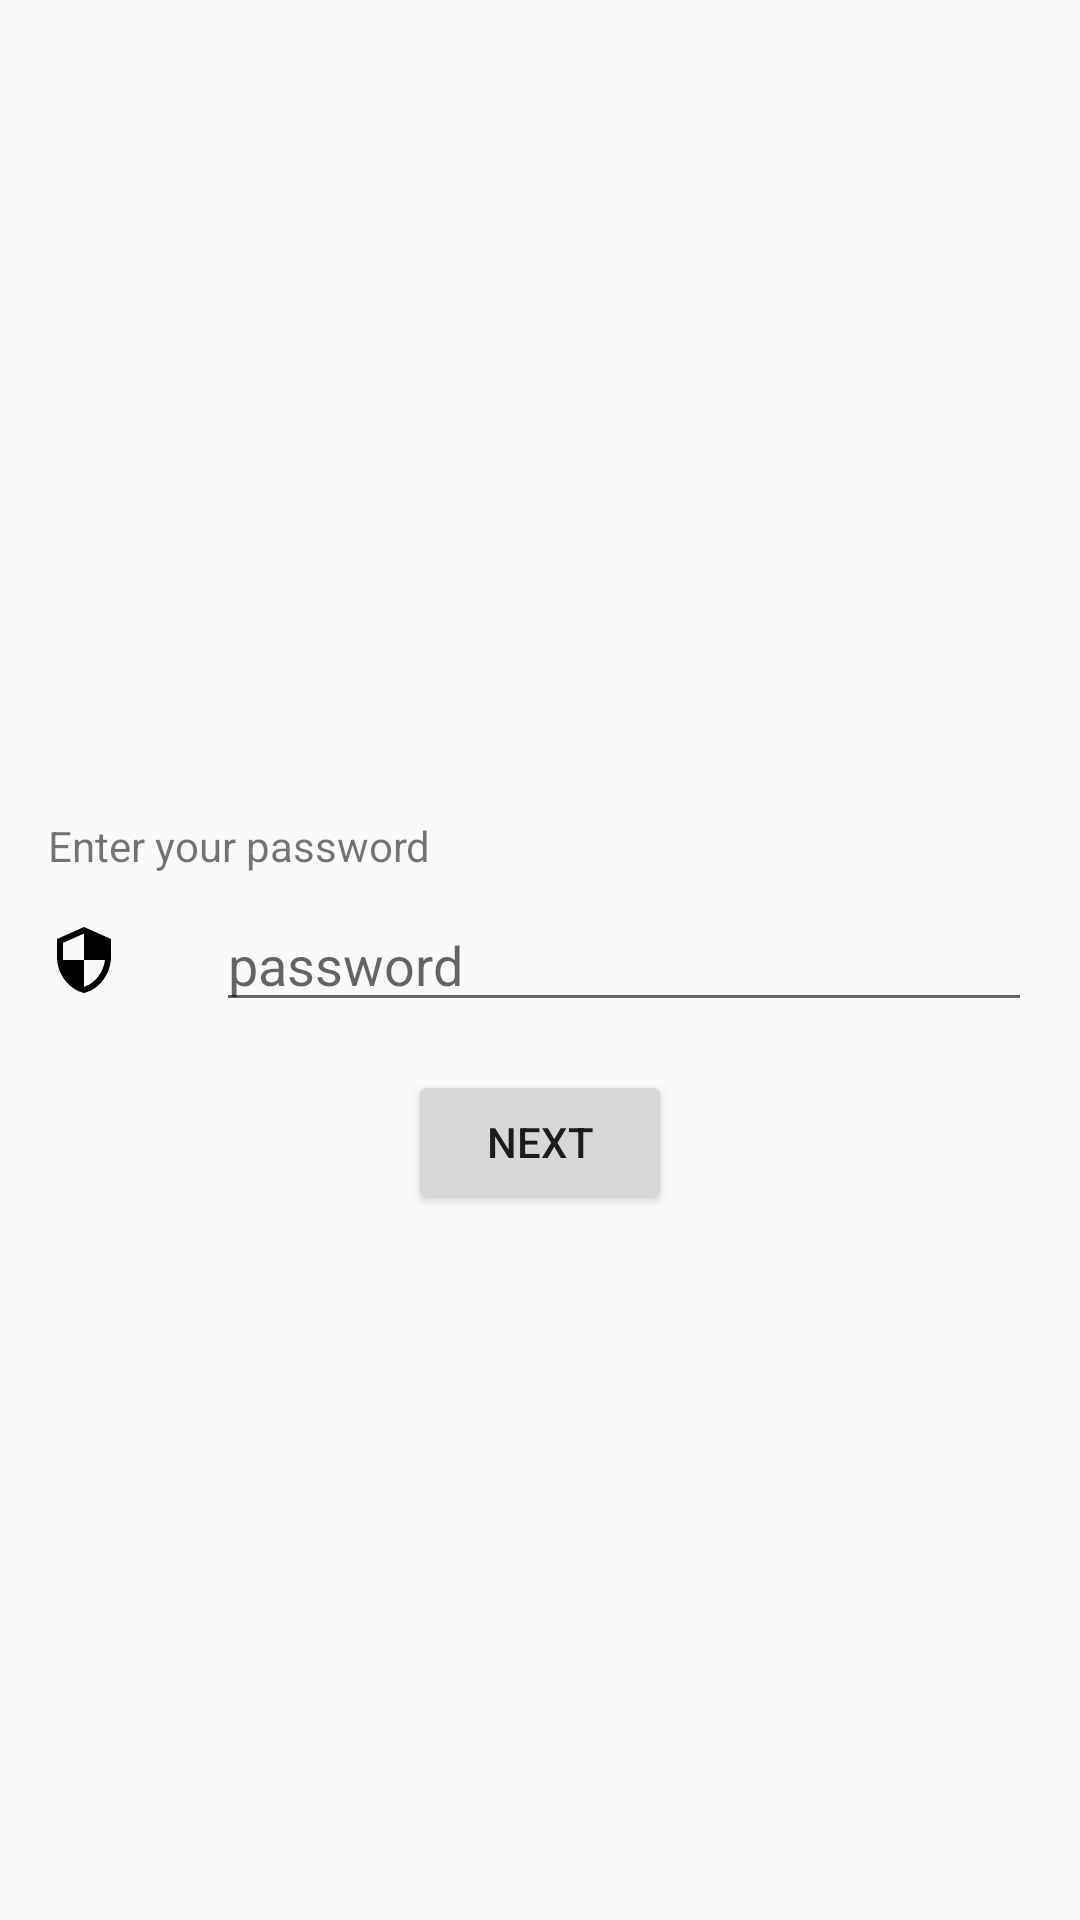

Icon click points for this 1080 x 1920 phone screenshot, format [x,y]:
security: [84,960]
